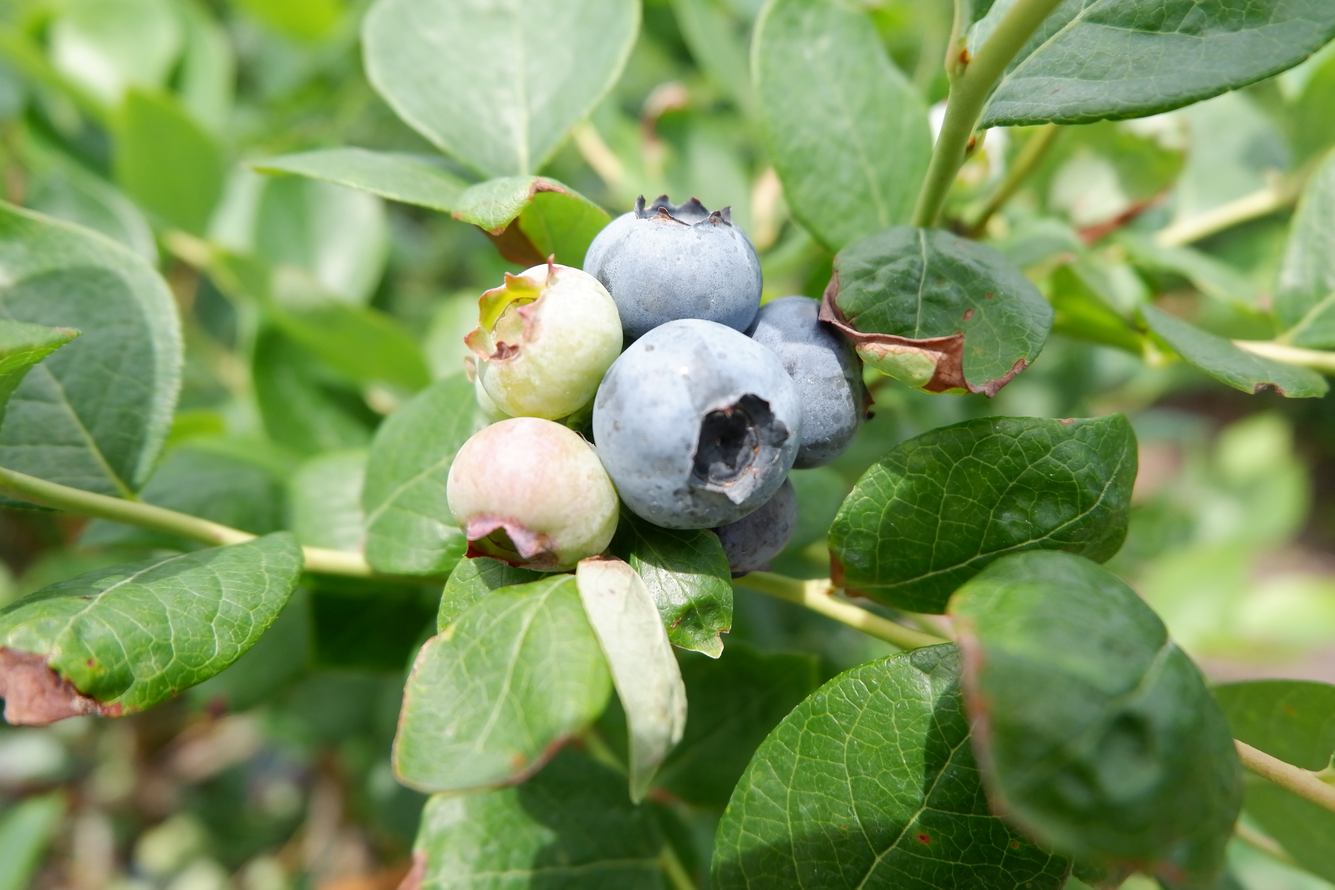Immature: (448, 422, 615, 569), (465, 265, 621, 416), (464, 354, 515, 423)
Mature: (599, 324, 799, 525), (589, 200, 759, 338), (751, 298, 869, 464), (712, 477, 795, 574)
